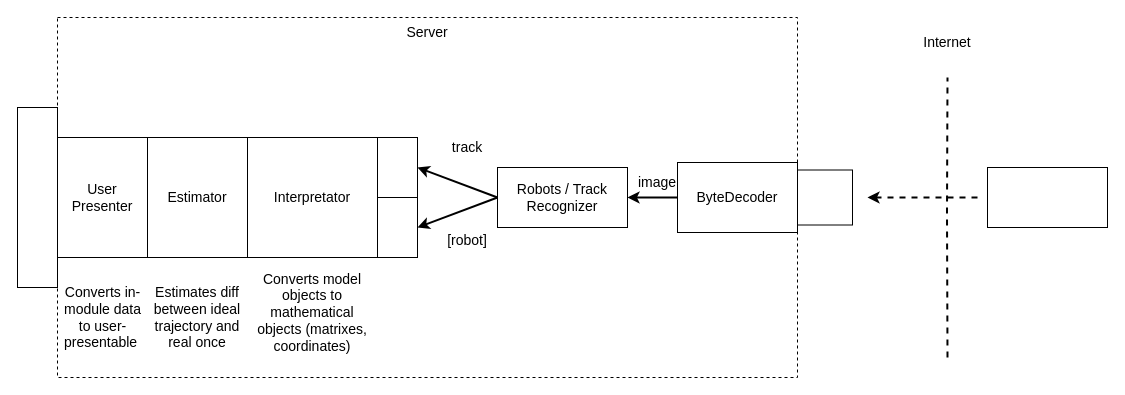
Some shapes in this 1125 by 395 pixel diagram are drawn without their labels. Each missing label, with the centre of its shape:
Camera: the point at 1047,197
Display: the point at 37,197
Socket: the point at 824,197
